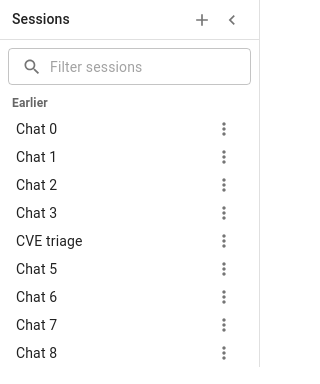
Test: ChatSessionsPanel filter › narrows the list by title
Type "cve" into the field labelled "Filter sessions" at (150, 67), box [50,48,251,85]
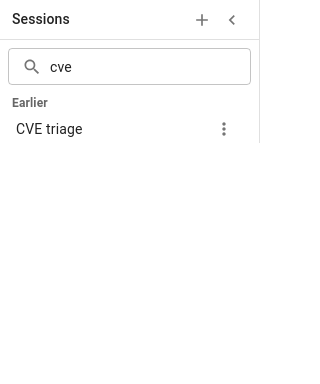
Expected: the text "CVE triage" is shown, [16,121,83,137]
Expected: the button "Chat 1" is gone
Replace the text in the field named "Filter sessions" with "nothing like this" at (150, 67), box [50,48,251,85]
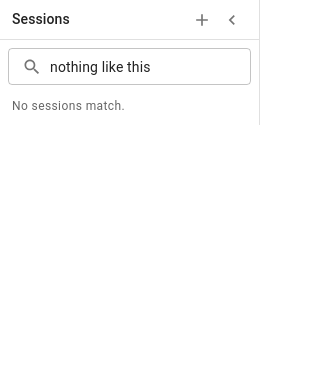
Expected: the text "No sessions match." is shown, [12,99,125,113]
